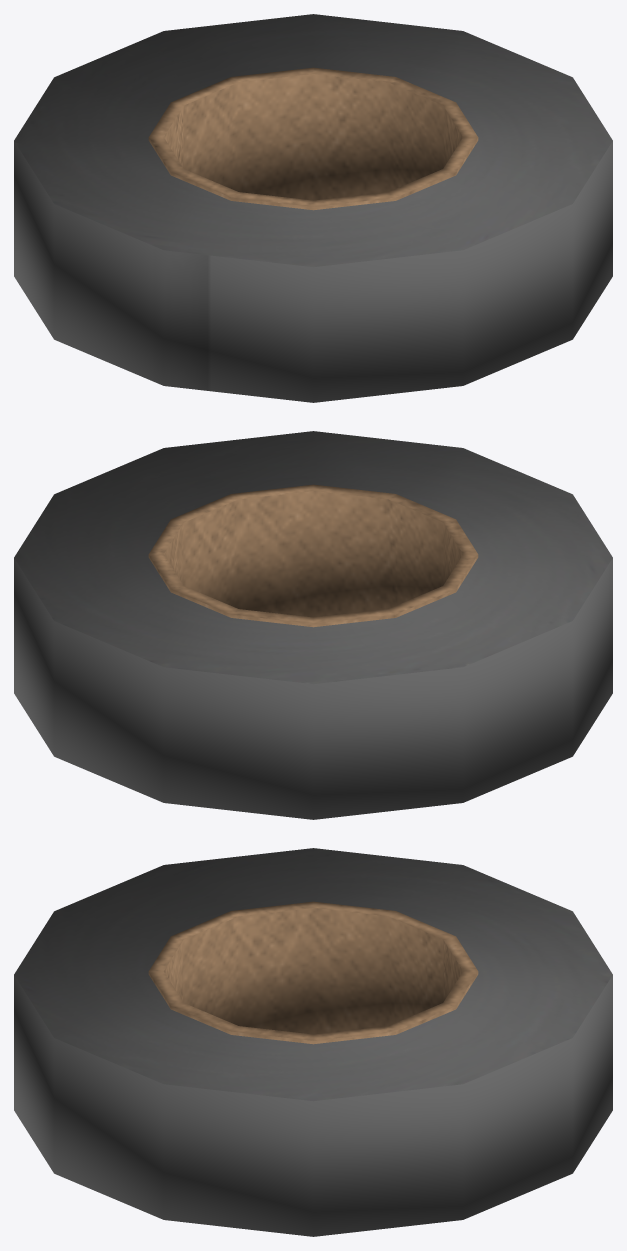
The model's file is tape.obj.
The picture shows the model from 3 angles, top to bottom: view 1: azimuth 30°, elevation 25°; view 2: azimuth 150°, elevation 25°; view 3: azimuth 270°, elevation 25°; orthographic projection.
Parts seen in each view (by area): view 1: Tape; view 2: Tape; view 3: Tape.
Boxes of the visible parts, <box> form: Tape: <box>14,14,612,402</box>; Tape: <box>14,431,612,819</box>; Tape: <box>14,848,612,1236</box>.
Size of the model in its own units: 0.4 by 0.105 by 0.4.
1 material, 1 textured.
